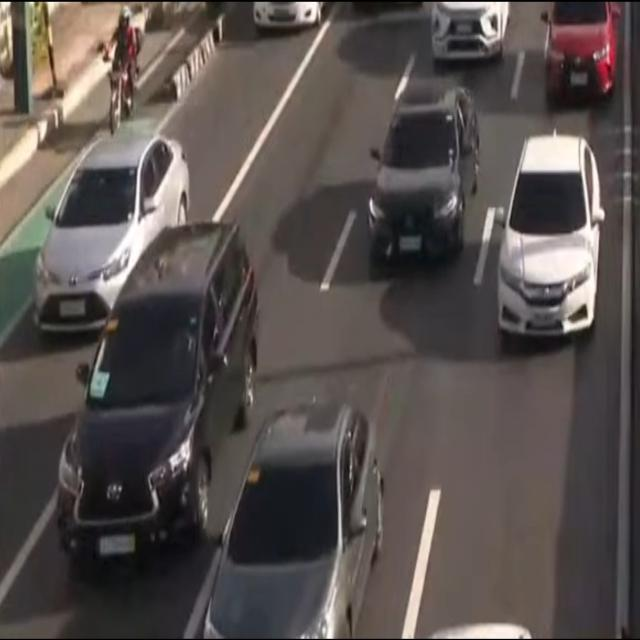Motorcycle: (97, 3, 145, 132)
SUV: (52, 221, 251, 561)
Sedan: (201, 398, 388, 640), (32, 132, 189, 344), (497, 126, 601, 336), (367, 83, 475, 256), (542, 0, 612, 98)
